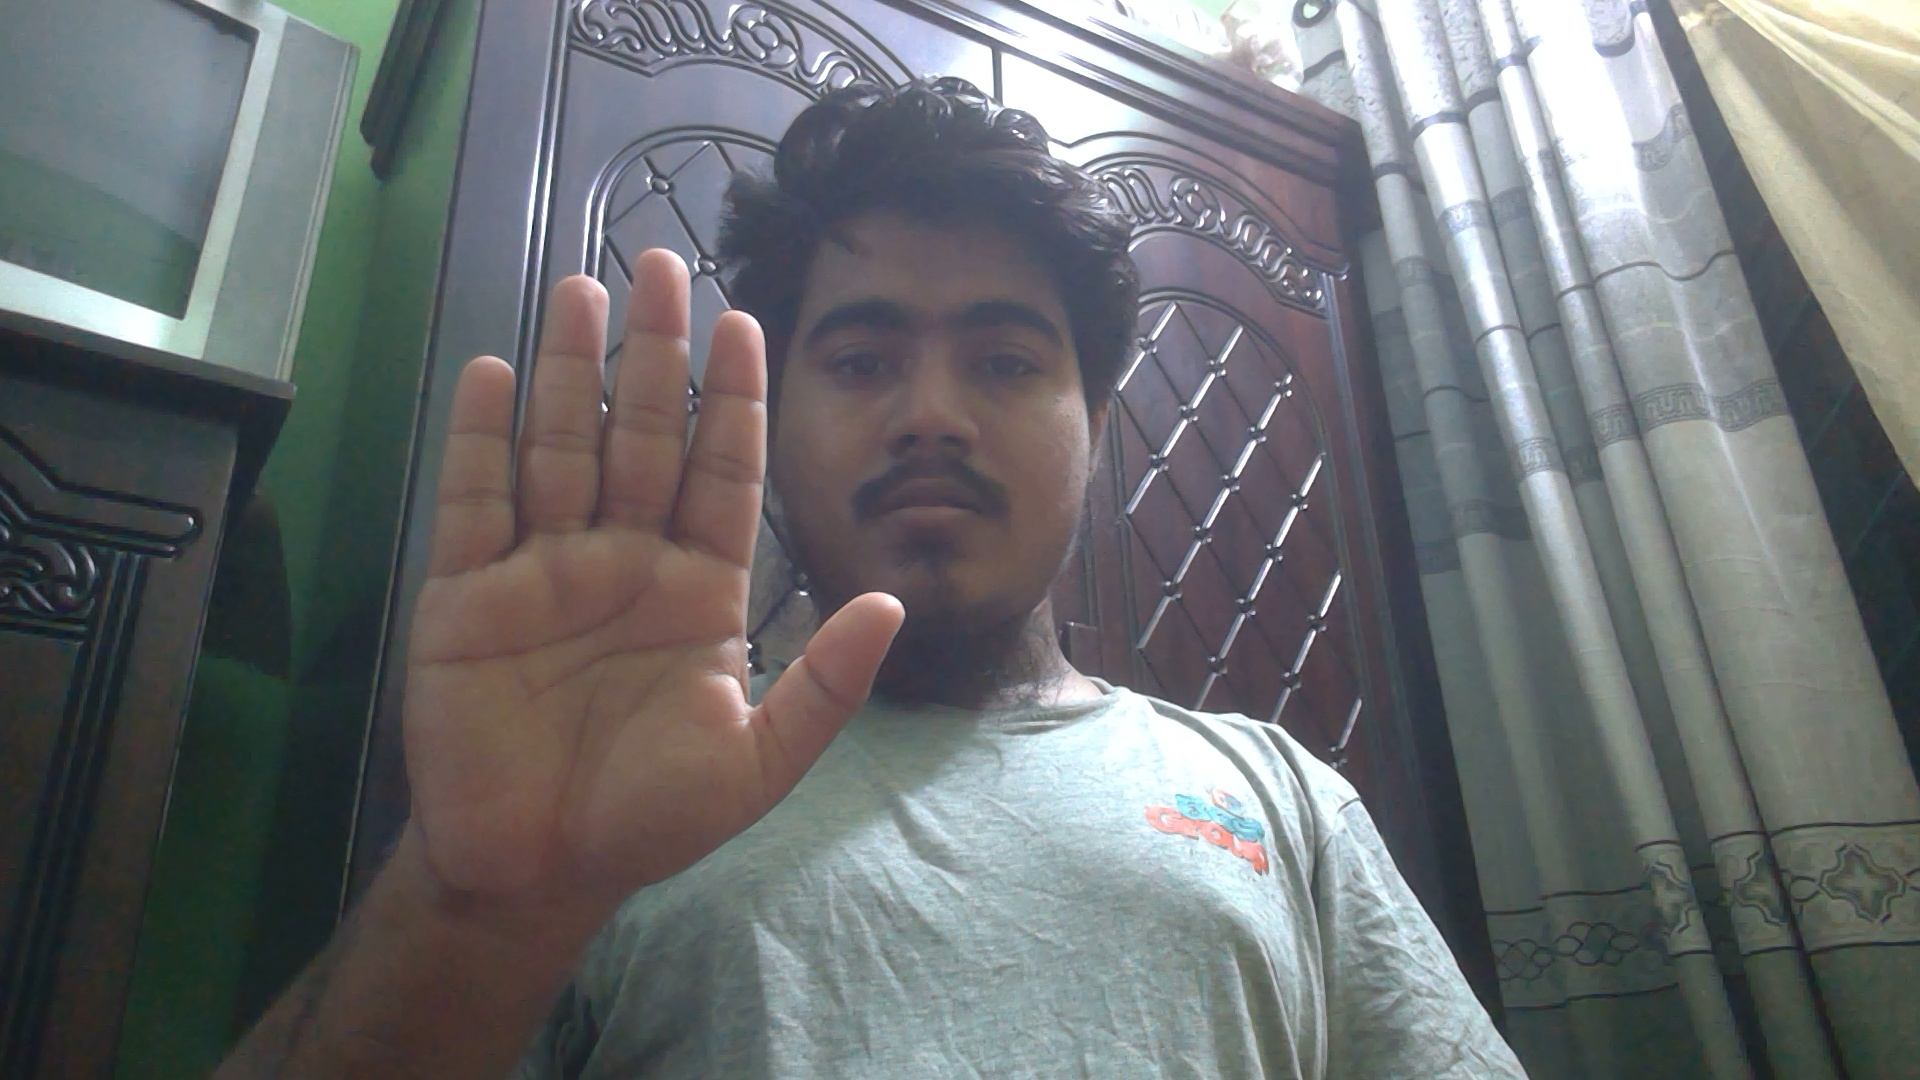Hello: (382, 237, 920, 916)
